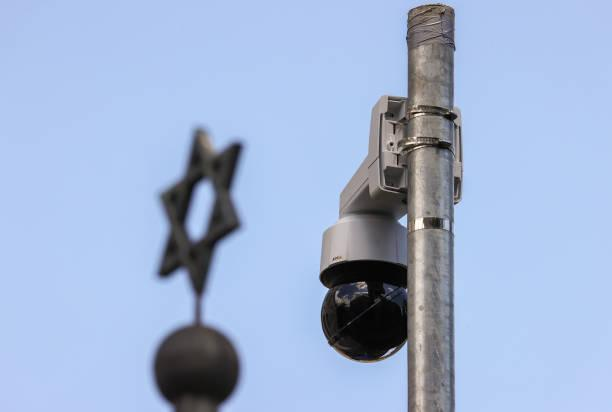camera: (296, 202, 479, 368)
